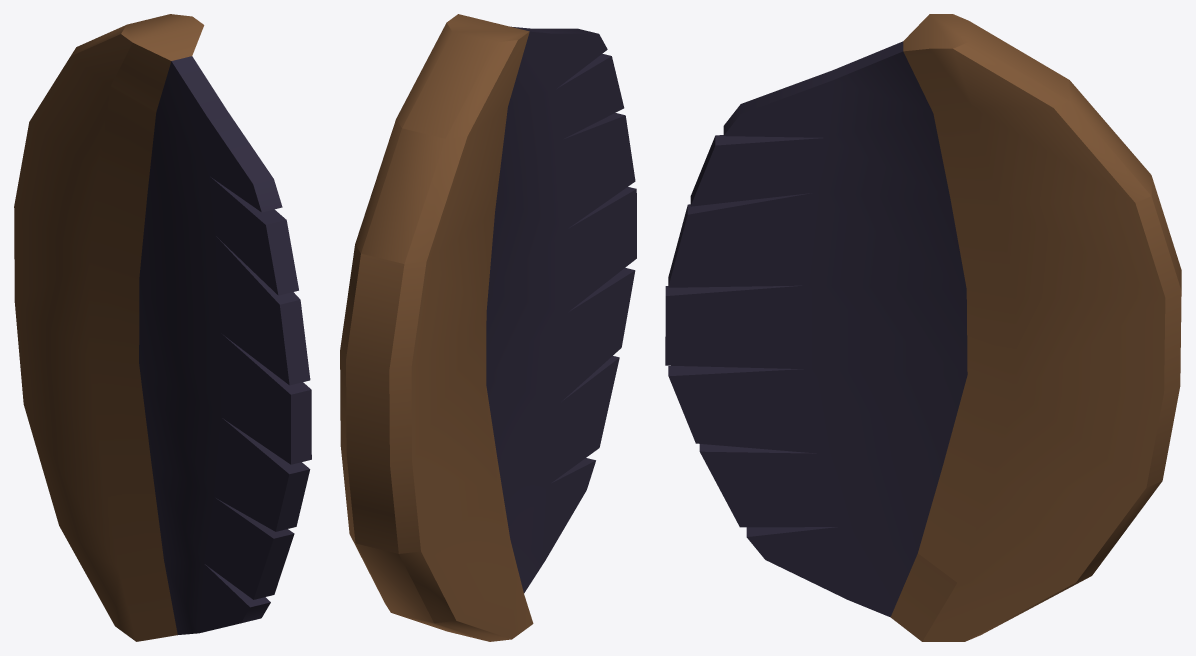
File: Ingredients_UV.fbx
The picture shows the model from 3 angles, left to right: view 1: azimuth 30°, elevation 25°; view 2: azimuth 150°, elevation 25°; view 3: azimuth 270°, elevation 25°; orthographic projection.
Parts seen in each view (by area): view 1: MoonSeed; view 2: MoonSeed; view 3: MoonSeed.
Boxes of the visible parts, bbox=[...] form: MoonSeed: bbox=[14, 14, 311, 641]; MoonSeed: bbox=[340, 14, 636, 641]; MoonSeed: bbox=[665, 14, 1181, 641].
Size of the model in its own units: 0.4034 by 3.21 by 2.53.
